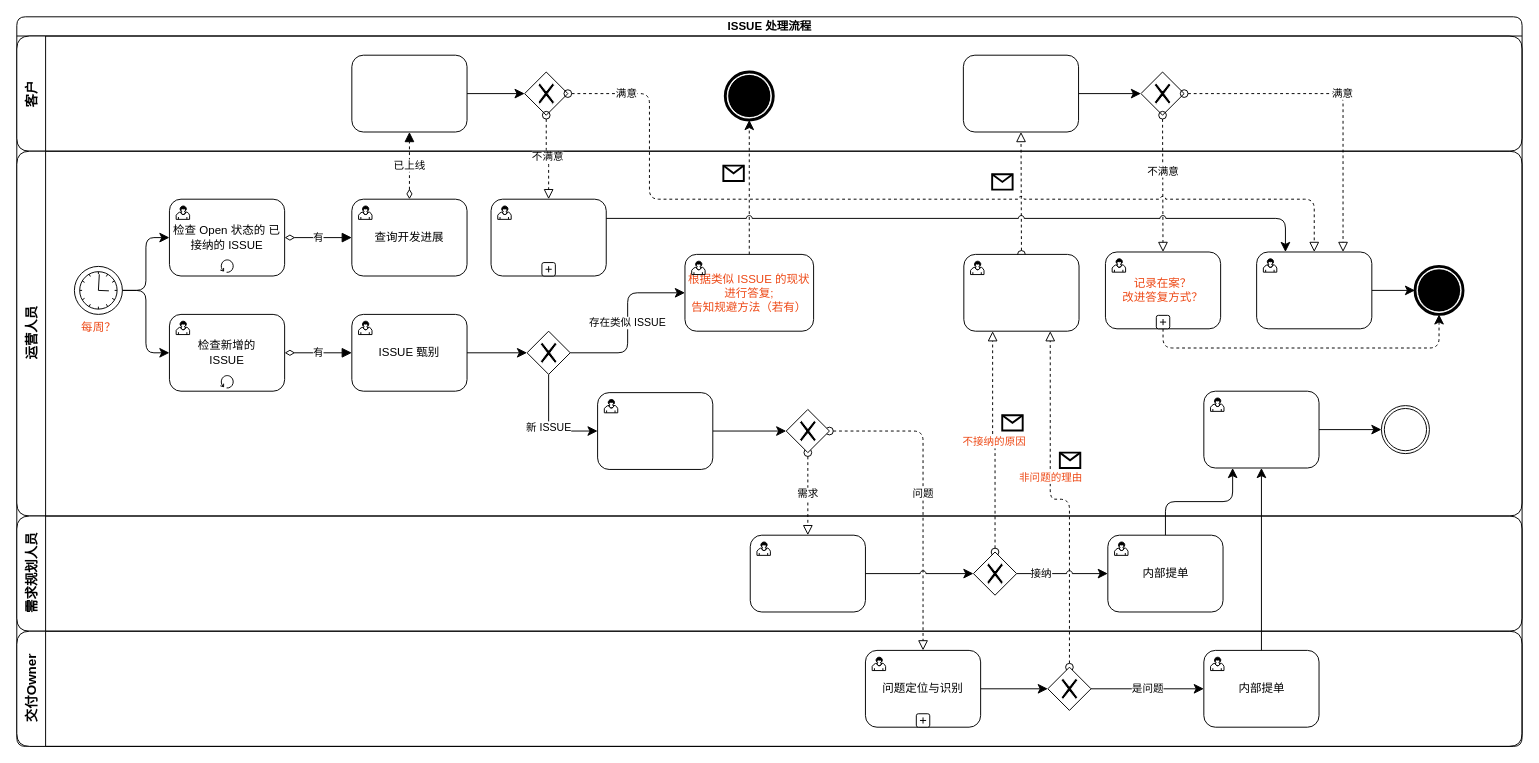
Image size: 1539x763. Some labels were removed from this diagram. The centre of each missing label's shape, as x and y in pixels:
"关闭 ISSUE" goes at (1314,290).
"回复" goes at (1020,93).
"回溯？" goes at (548,237).
"更新 ISSUE状态 为已接纳" goes at (1261,429).
"补全场景信息 识别需求/问题" goes at (655,430).
"解释" goes at (1021,292).
"评审需求" goes at (807,573).
"验收" goes at (409,93).
